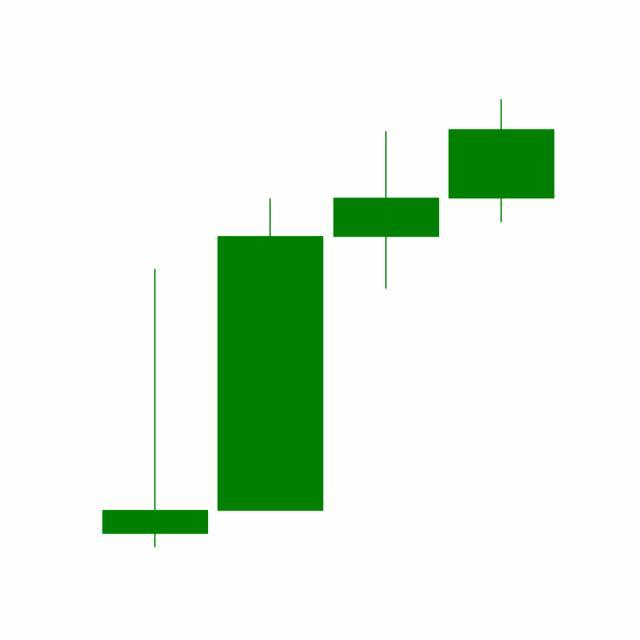Spinning Top: (329, 130, 445, 292)
